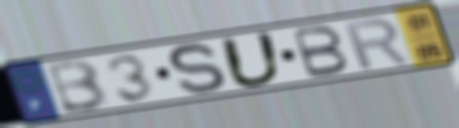3: (104, 54, 156, 103)
B: (45, 57, 111, 115), (290, 24, 352, 80)
R: (341, 16, 413, 72)
S: (165, 41, 229, 98)
U: (216, 30, 286, 89)
